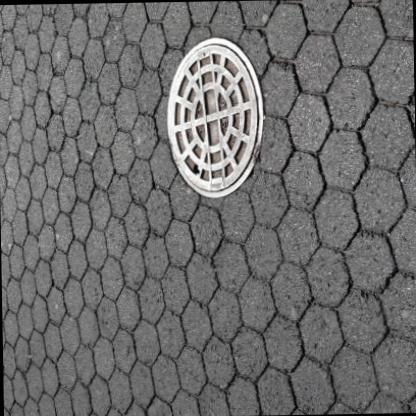manholes: (149, 26, 276, 218)
